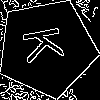K: (22, 23, 74, 65)
